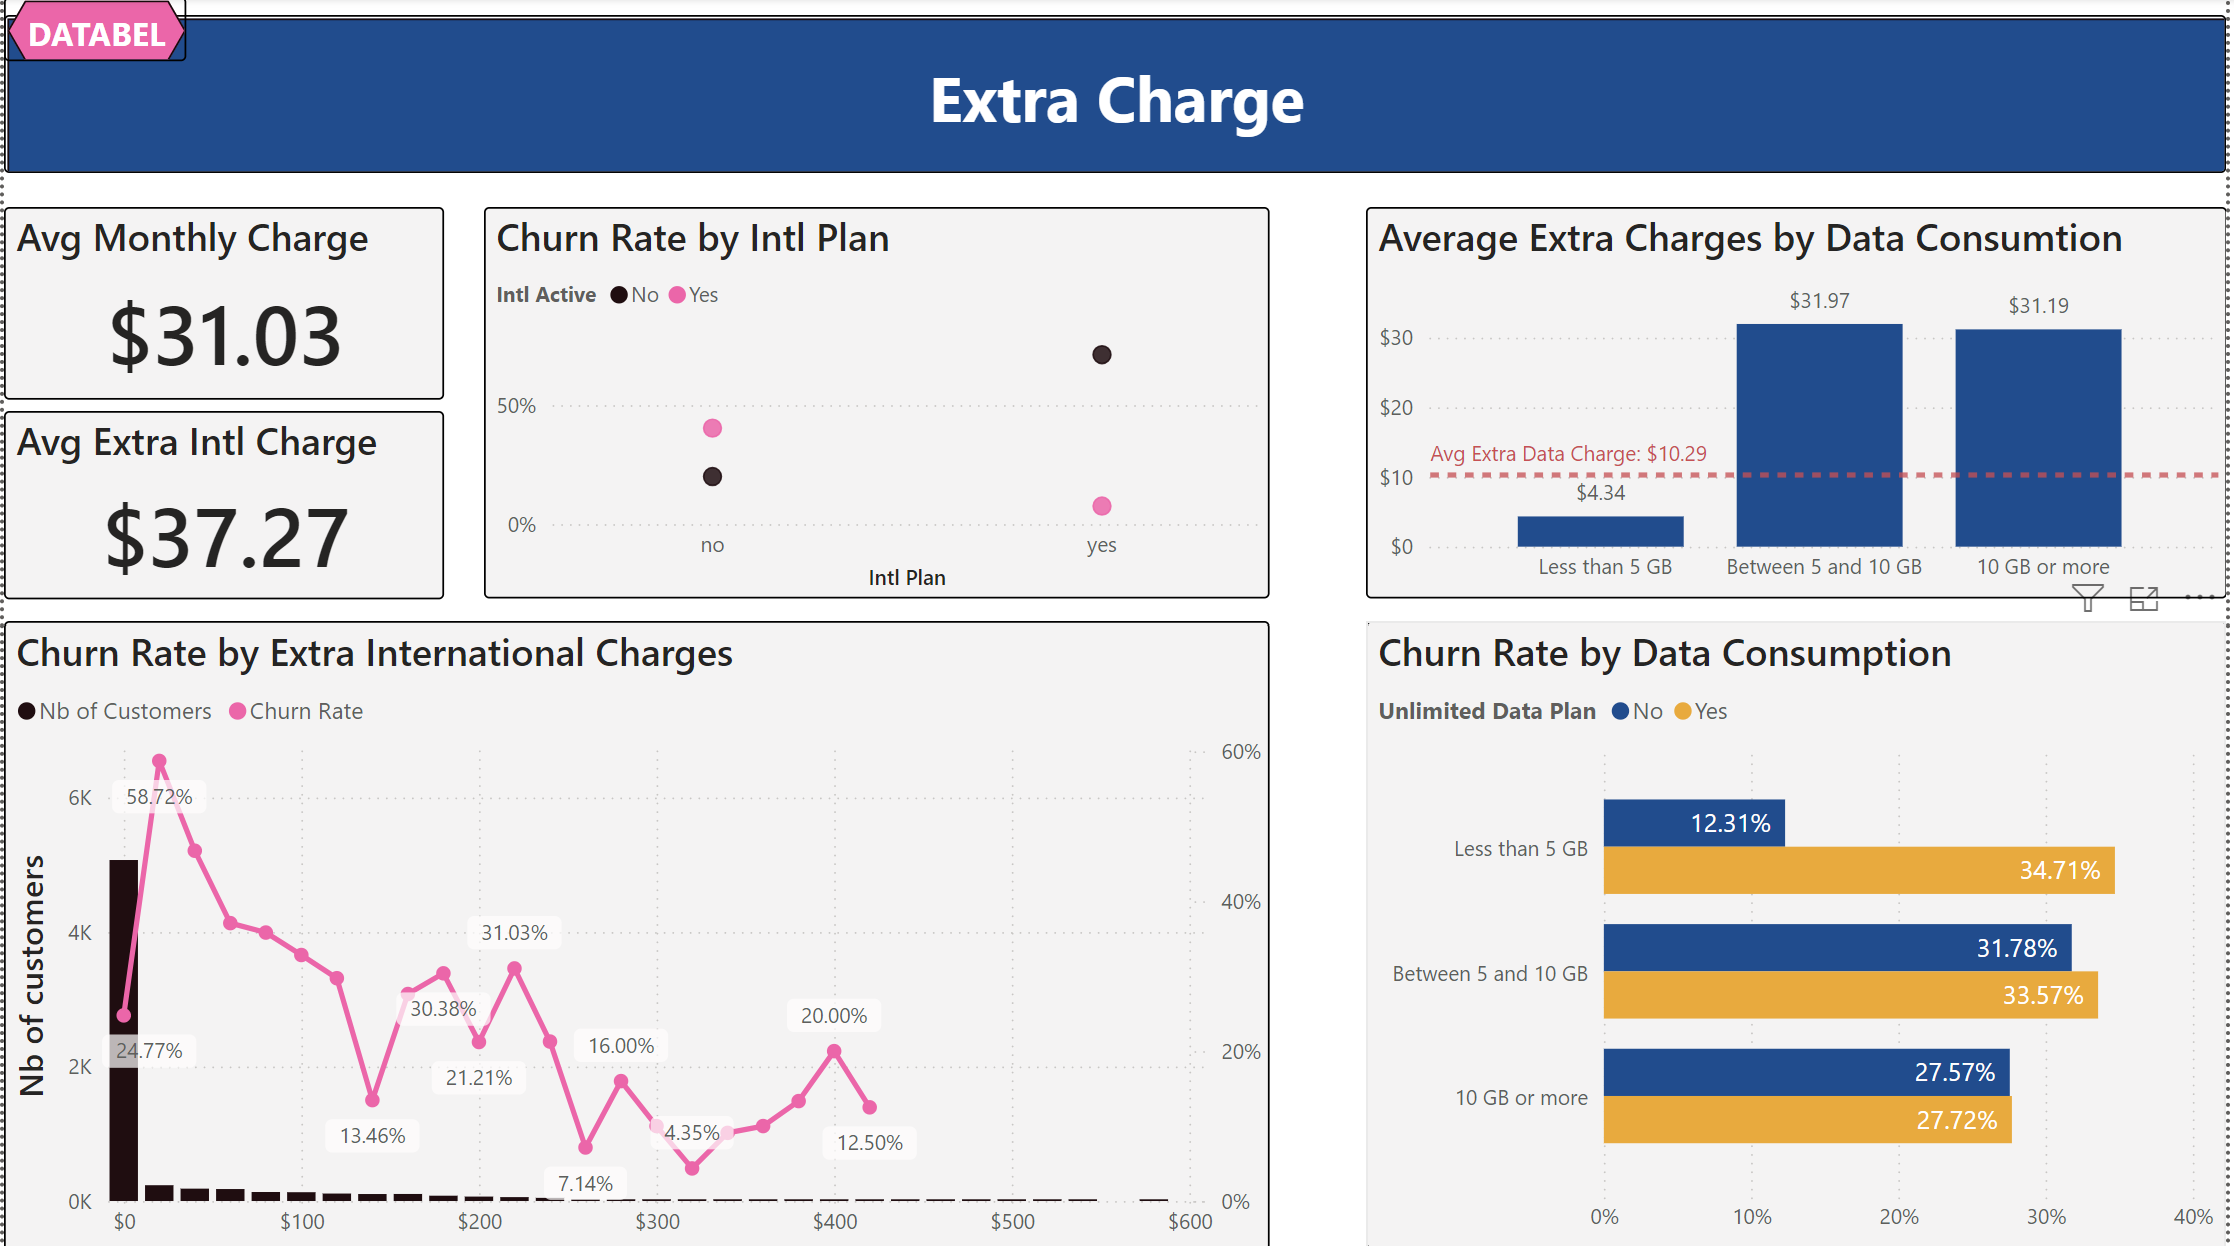

The page's visual inventory and layout, read from the dashboard file:
{"tool":"powerbi","page":{"name":"Extra Charges","canvas":[1280,720],"ordinal":15},"visuals":[{"type":"clusteredBarChart","fields":{"Category":["Databel - Data.Group Consumption"],"Y":["Calculate.Churn Rate"],"Series":["Databel - Data.Unlimited Data Plan"]},"box":[0,0,694.3,340],"z":0},{"type":"card","fields":{"Values":["Calculate.Avg Extra Data Charges"]},"box":[725.7,0,257.1,134.3],"z":1000},{"type":"card","fields":{"Values":["Calculate.Avg Extra International Charges"]},"box":[1022.9,0,257.1,134.3],"z":2000}]}

Visuals, with their boxes in screenshot pixels (x1, y1, x2, y2), scaled from the page's 1280x720 canvas onto the 2234x1246 screenshot:
clusteredBarChart - Databel - Data.Group Consumption x Calculate.Churn Rate: [0,0,1212,588]
card - Calculate.Avg Extra Data Charges: [1267,0,1715,232]
card - Calculate.Avg Extra International Charges: [1785,0,2233,232]
